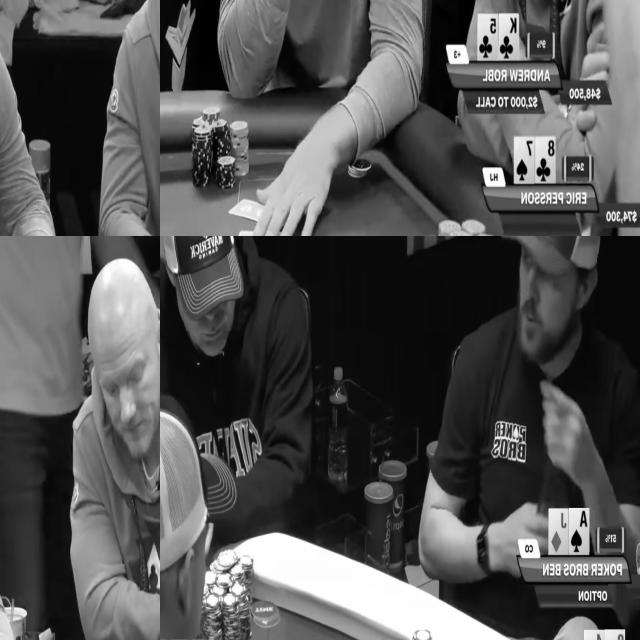4D: (584, 630, 605, 640)
5C: (478, 14, 498, 61)
7S: (514, 138, 534, 185)
8C: (535, 138, 555, 182)
8D: (604, 630, 625, 640)
AS: (569, 508, 589, 553)
JD: (549, 509, 568, 554)
KC: (499, 13, 518, 60)
